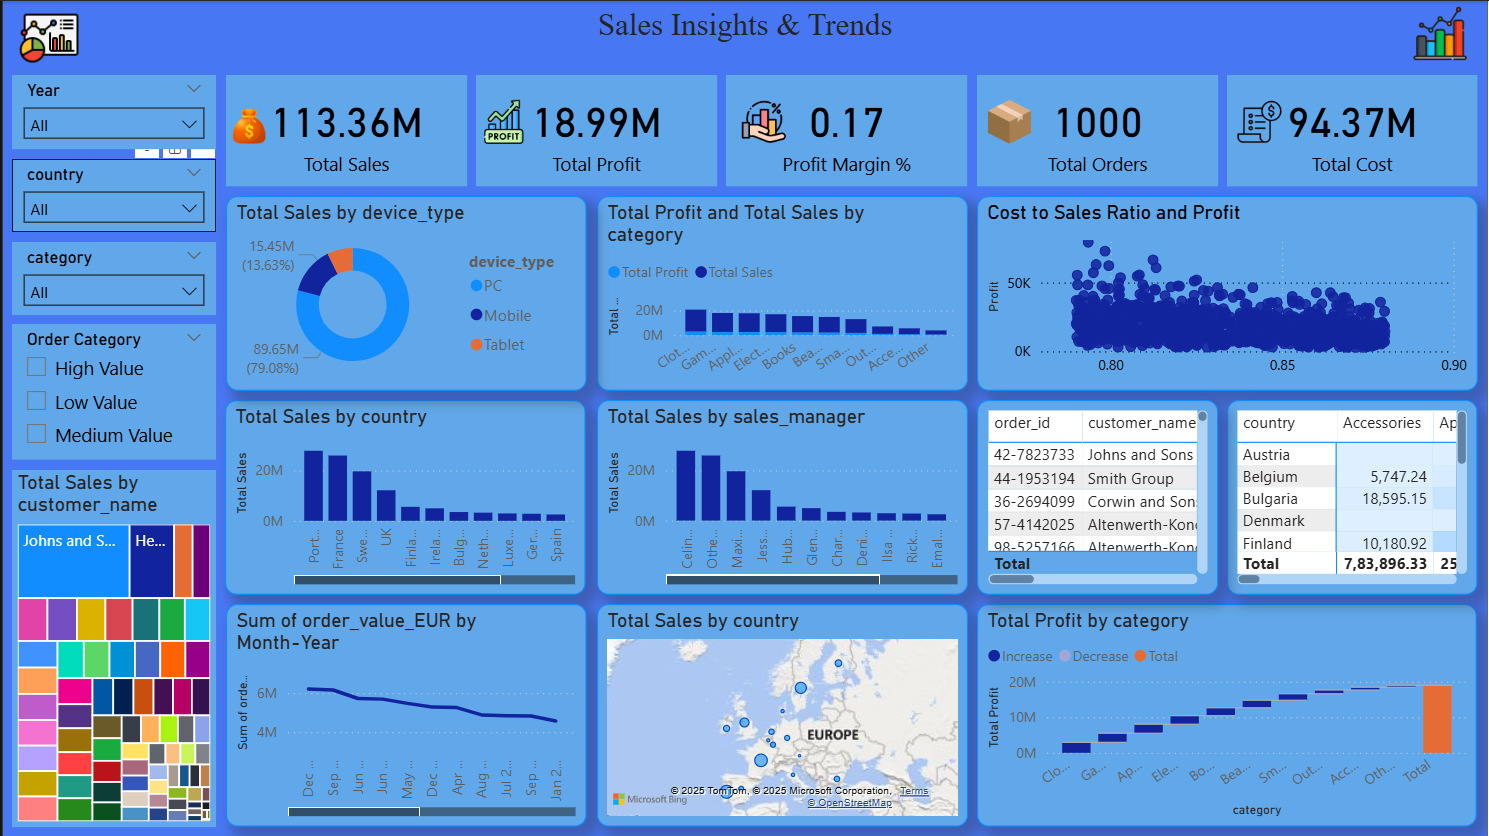

Layout of this report page (visuals, bound fields, positions):
{"tool":"powerbi","page":{"name":"Page 1","canvas":[1280,720],"ordinal":0},"visuals":[{"type":"card","fields":{"Values":["New Sales.Total Sales"]},"box":[192,64,208,96],"z":0},{"type":"image","box":[192,88,40,40],"z":1000},{"type":"card","fields":{"Values":["New Sales.Total Profit"]},"box":[408,64,208,96],"z":2000},{"type":"card","fields":{"Values":["New Sales.Total Orders"]},"box":[840,64,208,96],"z":3000},{"type":"card","fields":{"Values":["New Sales.Total Cost"]},"box":[1056,64,216,96],"z":4000},{"type":"card","fields":{"Values":["New Sales.Profit Margin %"]},"box":[624,64,208,96],"z":5000},{"type":"textbox","box":[7.8,0,1264.5,44.9],"z":6000},{"type":"columnChart","fields":{"Category":["New Sales.country"],"Y":["New Sales.Total Sales"]},"box":[191.5,344.2,311.4,168.2],"z":7000},{"type":"columnChart","fields":{"Category":["New Sales.category"],"Y":["New Sales.Total Profit","New Sales.Total Sales"]},"box":[512,168,320,168],"z":8000},{"type":"lineChart","fields":{"Y":["New Sales. order_value_EUR "],"Category":["New Sales.Month-Year"]},"box":[192.3,520.1,310.5,192.3],"z":9000},{"type":"clusteredColumnChart","fields":{"Category":["New Sales.sales_manager"],"Y":["New Sales.Total Sales"]},"box":[512,344,320,168],"z":10000},{"type":"treemap","fields":{"Values":["New Sales.Total Sales"],"Group":["New Sales.customer_name"]},"box":[7.8,404.5,176,307.9],"z":11000},{"type":"donutChart","fields":{"Category":["New Sales.device_type"],"Y":["New Sales.Total Sales"]},"box":[192.3,168.2,310.5,168.2],"z":12000},{"type":"slicer","fields":{"Values":["New Sales.country"]},"box":[7.8,136.3,176,63],"z":13000},{"type":"slicer","fields":{"Values":["New Sales.category"]},"box":[7.8,207.9,176,63],"z":14000},{"type":"slicer","fields":{"Values":["New Sales.Order Category"]},"box":[7.8,278.6,176,117.3],"z":15000},{"type":"slicer","fields":{"Values":["New Sales.date.Variation.Date Hierarchy.Year"]},"box":[8,64,176,64],"z":16000},{"type":"scatterChart","fields":{"Y":["New Sales.Profit"],"X":["New Sales.Cost to Sales Ratio"]},"box":[840,168,432,168],"z":17000},{"type":"map","fields":{"Category":["New Sales.country"],"Size":["New Sales.Total Sales"]},"box":[512,520,320,192],"z":18000},{"type":"waterfallChart","fields":{"Category":["New Sales.category"],"Y":["New Sales.Total Profit"]},"box":[840.1,520.1,431.3,192.3],"z":19000},{"type":"pivotTable","fields":{"Rows":["New Sales.country"],"Columns":["New Sales.category"],"Values":["New Sales.Profit"]},"box":[1056,344,216,168],"z":20000},{"type":"tableEx","fields":{"Values":["New Sales.order_id","New Sales.customer_name","New Sales. order_value_EUR ","New Sales. cost ","New Sales.Profit","New Sales.Order Category","New Sales.Profit Category"]},"box":[840.1,344.2,207.9,168.2],"z":21000},{"type":"image","box":[632,80,48,48],"z":22000},{"type":"image","box":[840,80,56,48],"z":23000},{"type":"image","box":[1056,80,56,48],"z":24000},{"type":"image","box":[408,80,48,48],"z":25000},{"type":"image","box":[8,0,64,64],"z":26000},{"type":"image","box":[1207.5,0,64.7,56.1],"z":28000}]}

Visuals, with their boxes in screenshot pixels (x1, y1, x2, y2), scaled from the page's 1280x720 canvas onto the 1489x836 screenshot:
card - New Sales.Total Sales: x1=223, y1=74, x2=465, y2=186
image: x1=223, y1=102, x2=270, y2=149
card - New Sales.Total Profit: x1=475, y1=74, x2=717, y2=186
card - New Sales.Total Orders: x1=977, y1=74, x2=1219, y2=186
card - New Sales.Total Cost: x1=1228, y1=74, x2=1480, y2=186
card - New Sales.Profit Margin %: x1=726, y1=74, x2=968, y2=186
textbox: x1=9, y1=0, x2=1480, y2=52
columnChart - New Sales.country x New Sales.Total Sales: x1=223, y1=400, x2=585, y2=595
columnChart - New Sales.category x New Sales.Total Profit: x1=596, y1=195, x2=968, y2=390
lineChart - New Sales. order_value_EUR  x New Sales.Month-Year: x1=224, y1=604, x2=585, y2=827
clusteredColumnChart - New Sales.sales_manager x New Sales.Total Sales: x1=596, y1=399, x2=968, y2=594
treemap - New Sales.Total Sales x New Sales.customer_name: x1=9, y1=470, x2=214, y2=827
donutChart - New Sales.device_type x New Sales.Total Sales: x1=224, y1=195, x2=585, y2=391
slicer - New Sales.country: x1=9, y1=158, x2=214, y2=231
slicer - New Sales.category: x1=9, y1=241, x2=214, y2=315
slicer - New Sales.Order Category: x1=9, y1=323, x2=214, y2=460
slicer - New Sales.date.Variation.Date Hierarchy.Year: x1=9, y1=74, x2=214, y2=149
scatterChart - New Sales.Profit x New Sales.Cost to Sales Ratio: x1=977, y1=195, x2=1480, y2=390
map - New Sales.country x New Sales.Total Sales: x1=596, y1=604, x2=968, y2=827
waterfallChart - New Sales.category x New Sales.Total Profit: x1=977, y1=604, x2=1479, y2=827
pivotTable - New Sales.country x New Sales.category: x1=1228, y1=399, x2=1480, y2=594
tableEx - New Sales.order_id x New Sales.customer_name: x1=977, y1=400, x2=1219, y2=595
image: x1=735, y1=93, x2=791, y2=149
image: x1=977, y1=93, x2=1042, y2=149
image: x1=1228, y1=93, x2=1294, y2=149
image: x1=475, y1=93, x2=530, y2=149
image: x1=9, y1=0, x2=84, y2=74
image: x1=1405, y1=0, x2=1480, y2=65
